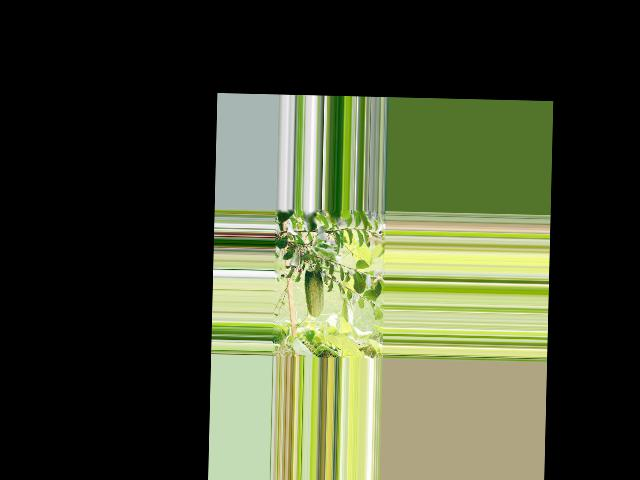cucumber: (302, 263, 324, 317)
